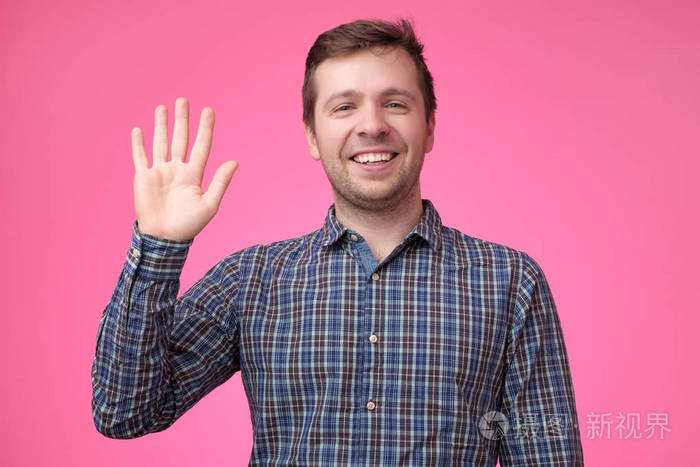no-phone: (127, 93, 243, 239)
